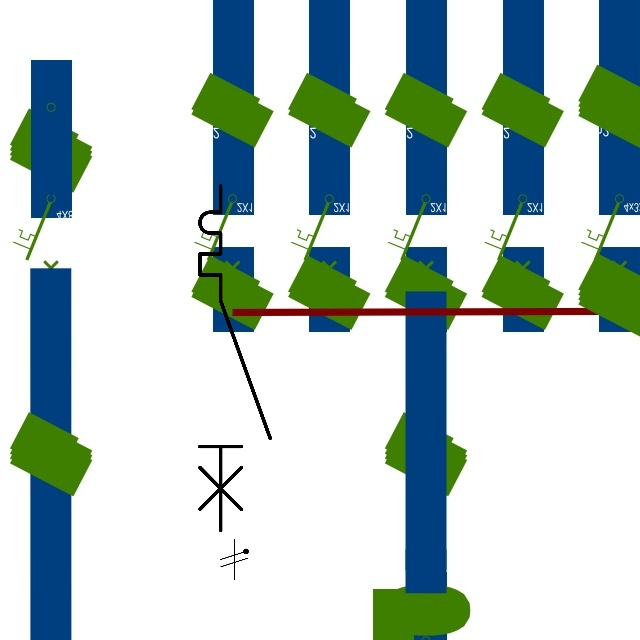interruptor_termomagnetico: (191, 177, 279, 539)
